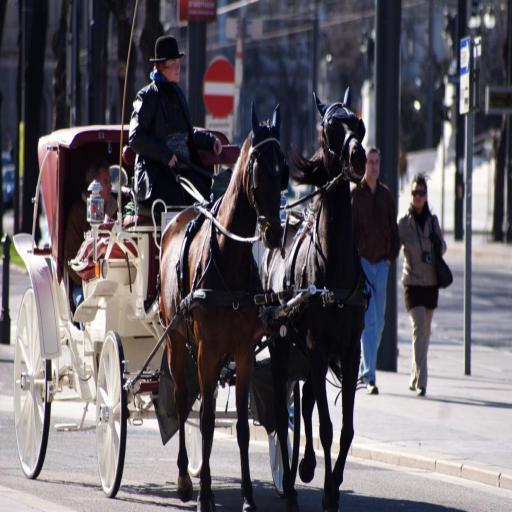horse: (158, 96, 285, 512), (258, 82, 372, 512)
